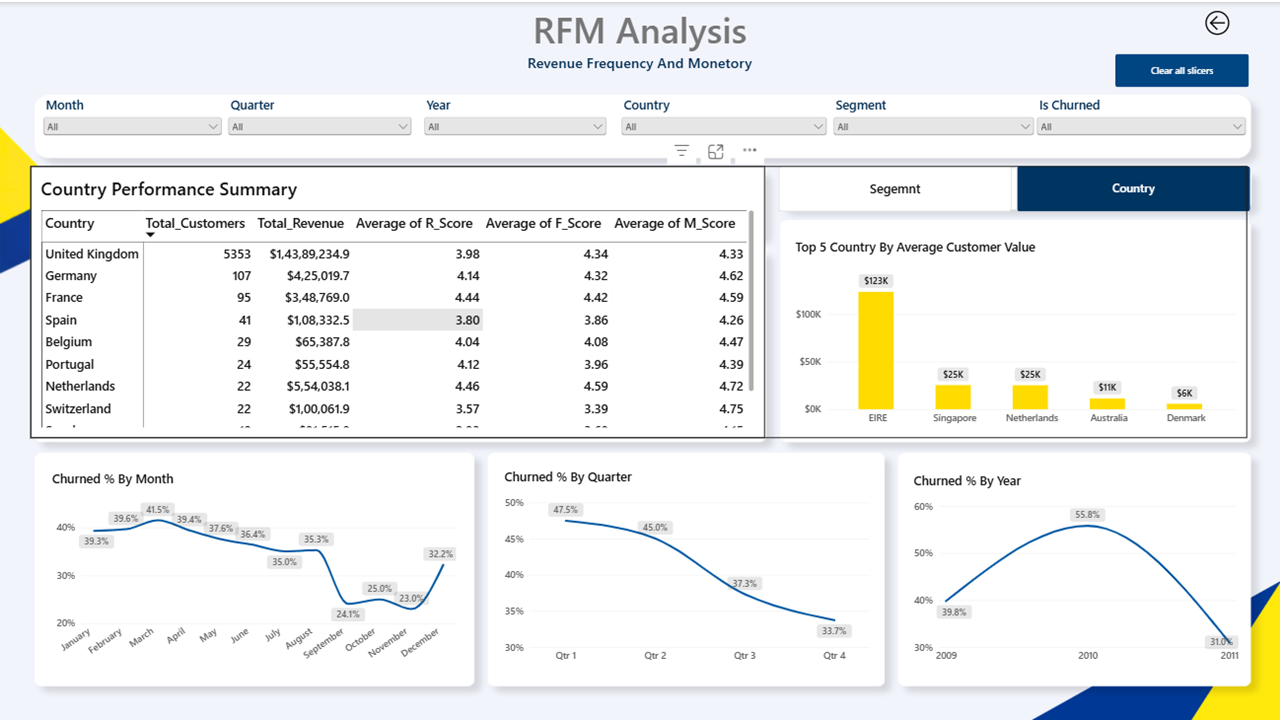

The page's visual inventory and layout, read from the dashboard file:
{"tool":"powerbi","page":{"name":"RFM  Analysis","canvas":[1920,1080],"ordinal":1},"visuals":[{"type":"slicer","fields":{"Values":["Sheet1.InvoiceDate.Variation.Date Hierarchy.Month"]},"box":[64.4,139.9,276.1,88.3],"z":0},{"type":"lineChart","title":"Churned % By Year","fields":{"Category":["Sheet1.InvoiceDate.Variation.Date Hierarchy.Year"],"Y":["Sheet1.Churned %"]},"box":[1353.3,687.5,517.2,320.2],"z":0,"group":"g1"},{"type":"slicer","fields":{"Values":["Sheet1.IsChurned"]},"box":[1547.9,139.9,322.1,88.3],"z":1000},{"type":"lineChart","title":"Churned % By Month","fields":{"Category":["Sheet1.InvoiceDate.Variation.Date Hierarchy.Month"],"Y":["Sheet1.Churned %"]},"box":[66.3,684.4,635,327.6],"z":1000,"group":"g1"},{"type":"slicer","fields":{"Values":["Sheet1.Segment"]},"box":[1244.2,139.9,309.2,88.3],"z":2000},{"type":"lineChart","title":"Churned % By Quarter","fields":{"Category":["Sheet1.InvoiceDate.Variation.Date Hierarchy.Quarter"],"Y":["Sheet1.Churned %"]},"box":[741.3,681.3,577.9,325.8],"z":2000,"group":"g1"},{"type":"slicer","fields":{"Values":["Sheet1.Country"]},"box":[927.6,139.9,316.6,88.3],"z":3000},{"type":"slicer","fields":{"Values":["Sheet1.InvoiceDate.Variation.Date Hierarchy.Year"]},"box":[633.1,139.9,281.6,88.3],"z":4000},{"type":"slicer","fields":{"Values":["Sheet1.InvoiceDate.Variation.Date Hierarchy.Quarter"]},"box":[340.5,139.9,283.4,88.3],"z":5000},{"type":"group","id":"g1","title":"Revenue","box":[66.3,681.3,1804.2,330.8],"z":6000},{"type":"bookmarkNavigator","box":[1166.9,244.8,704.9,68.1],"z":8000},{"type":"actionButton","box":[1772.4,0,99.4,62.6],"z":9000},{"type":"actionButton","box":[1669.3,77.3,200,50],"z":10000},{"type":"textbox","box":[587.3,3.7,745.4,123.3],"z":11000},{"type":"clusteredColumnChart","title":"Segment By Avg Customer Value","fields":{"Category":["Sheet1.Segment"],"Y":["Sheet1.Avg Customer Value"]},"box":[1179.8,336.8,690.2,312.9],"z":12000},{"type":"tableEx","title":"Segment Performance Sumarry","fields":{"Values":["Sheet1.Segment","Sheet1.Total_Customers","Sheet1.Total_Revenue","Avg(Sheet1.F_Score)","Avg(Sheet1.M_Score)","Avg(Sheet1.R_Score)"]},"box":[64.6,244,1082.2,406.6],"z":13000}]}

Visuals, with their boxes in screenshot pixels (x1, y1, x2, y2), scaled from the page's 1920x1080 canvas onto the 1280x720 screenshot:
slicer - Sheet1.InvoiceDate.Variation.Date Hierarchy.Month: 43/93/227/152
"Churned % By Year" lineChart: 902/458/1247/672
slicer - Sheet1.IsChurned: 1032/93/1247/152
"Churned % By Month" lineChart: 44/456/468/675
slicer - Sheet1.Segment: 829/93/1036/152
"Churned % By Quarter" lineChart: 494/454/879/671
slicer - Sheet1.Country: 618/93/829/152
slicer - Sheet1.InvoiceDate.Variation.Date Hierarchy.Year: 422/93/610/152
slicer - Sheet1.InvoiceDate.Variation.Date Hierarchy.Quarter: 227/93/416/152
"Revenue" group: 44/454/1247/675
bookmarkNavigator: 778/163/1248/209
actionButton: 1182/0/1248/42
actionButton: 1113/52/1246/85
textbox: 392/2/888/85
"Segment By Avg Customer Value" clusteredColumnChart: 787/225/1247/433
"Segment Performance Sumarry" tableEx: 43/163/765/434
